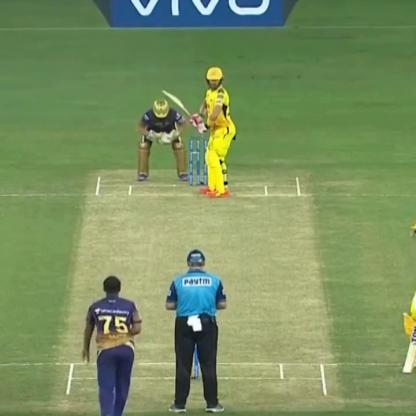bat: (149, 82, 206, 136)
pitch: (68, 163, 339, 402)
